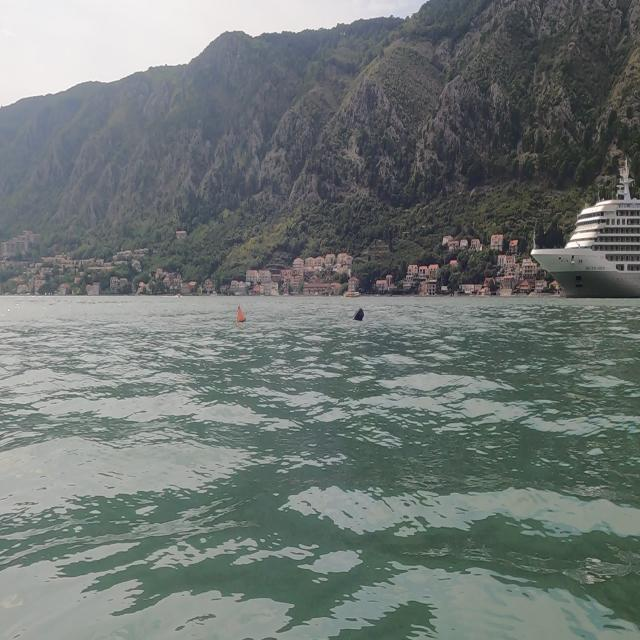boat: (529, 150, 639, 300)
buoy: (231, 295, 251, 329), (348, 293, 366, 328)
